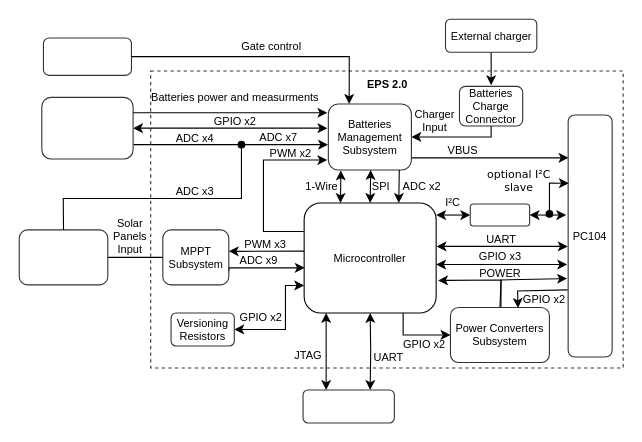
Some shapes in this 642 by 442 pixel diagram are drawn without their labels. The box of each missing label's shape, as (x1, y1, x2, y2) in pixels:
Batteries Daughterboard: (41, 96, 133, 159)
Debugging Interface: (302, 389, 394, 423)
I²C Buffer: (469, 203, 530, 226)
Kill-Switches and RBF: (42, 37, 131, 75)
Solar Panel Boards: (18, 229, 108, 285)
